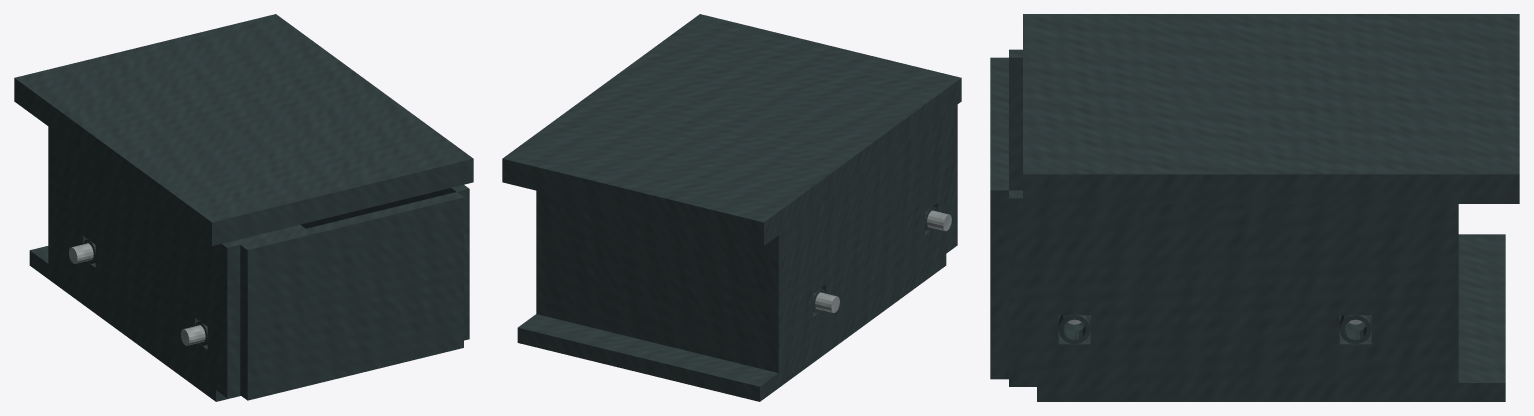
3 views of the same model, side by side, from view 1: azimuth 30°, elevation 25°; view 2: azimuth 150°, elevation 25°; view 3: azimuth 270°, elevation 25° (orthographic). The views are drawn at different scales.
Parts seen in each view (by area): view 1: B026-04_shell_iron, B026-04_frame_iron, B026-04_base_iron, B026-04_moving_rod-0.32_steel, B026-04_moving_rod0.28_steel; view 2: B026-04_frame_iron, B026-04_shell_iron, B026-04_base_iron, B026-04_moving_rod-0.32_steel, B026-04_moving_rod0.28_steel; view 3: B026-04_frame_iron, B026-04_shell_iron, B026-04_base_iron, B026-04_housing_iron.
Part boxes in pixels (box(x1,y1,x2,y2)): B026-04_shell_iron: box(48, 126, 469, 400); B026-04_frame_iron: box(14, 14, 473, 245); B026-04_base_iron: box(29, 224, 305, 401); B026-04_moving_rod-0.32_steel: box(180, 325, 205, 345); B026-04_moving_rod0.28_steel: box(69, 243, 93, 263); B026-04_frame_iron: box(502, 14, 961, 245); B026-04_shell_iron: box(536, 104, 957, 375); B026-04_base_iron: box(517, 251, 946, 401); B026-04_moving_rod-0.32_steel: box(927, 210, 951, 230); B026-04_moving_rod0.28_steel: box(815, 292, 839, 312); B026-04_frame_iron: box(1023, 14, 1519, 203); B026-04_shell_iron: box(990, 49, 1458, 386); B026-04_base_iron: box(1037, 234, 1505, 401); B026-04_housing_iron: box(1058, 315, 1371, 344).
Size of the model in its own units: 0.83 by 0.55 by 1.13.
2 materials, 2 textured.
